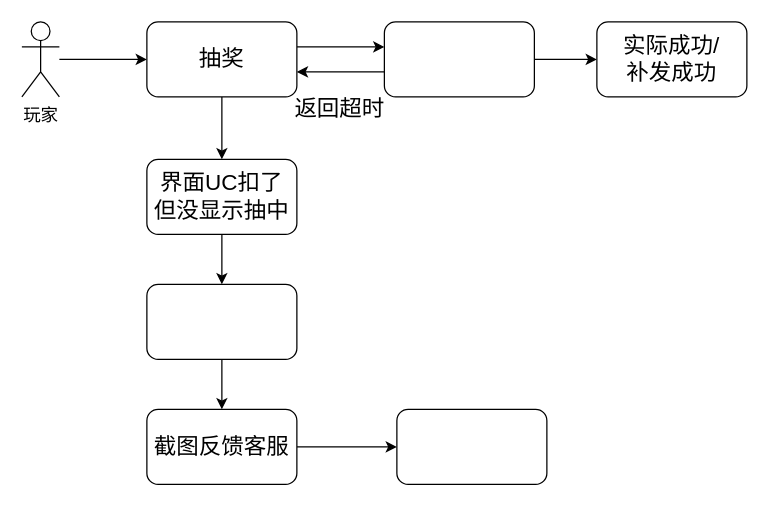
This 769x506 diagram has some shape labels left out. The shapes that lost their labels are listed below. From the top down, each one's centre as x and y in pixels, then its label:
At [458,59]: "发货超时".
At [221,321]: "重开活动依旧没有显示抽中".
At [471,446]: "客服、运营人力浪费".
